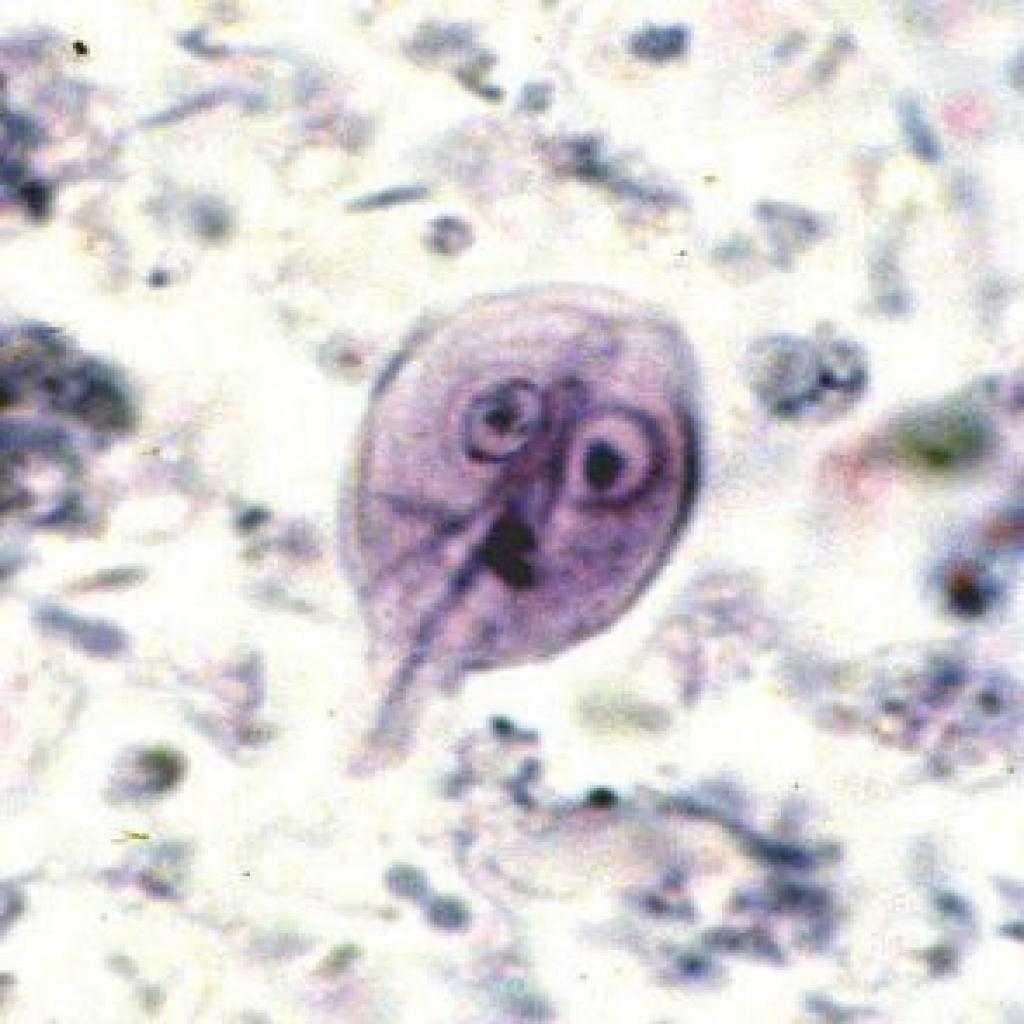Giardia: (316, 268, 715, 780)
